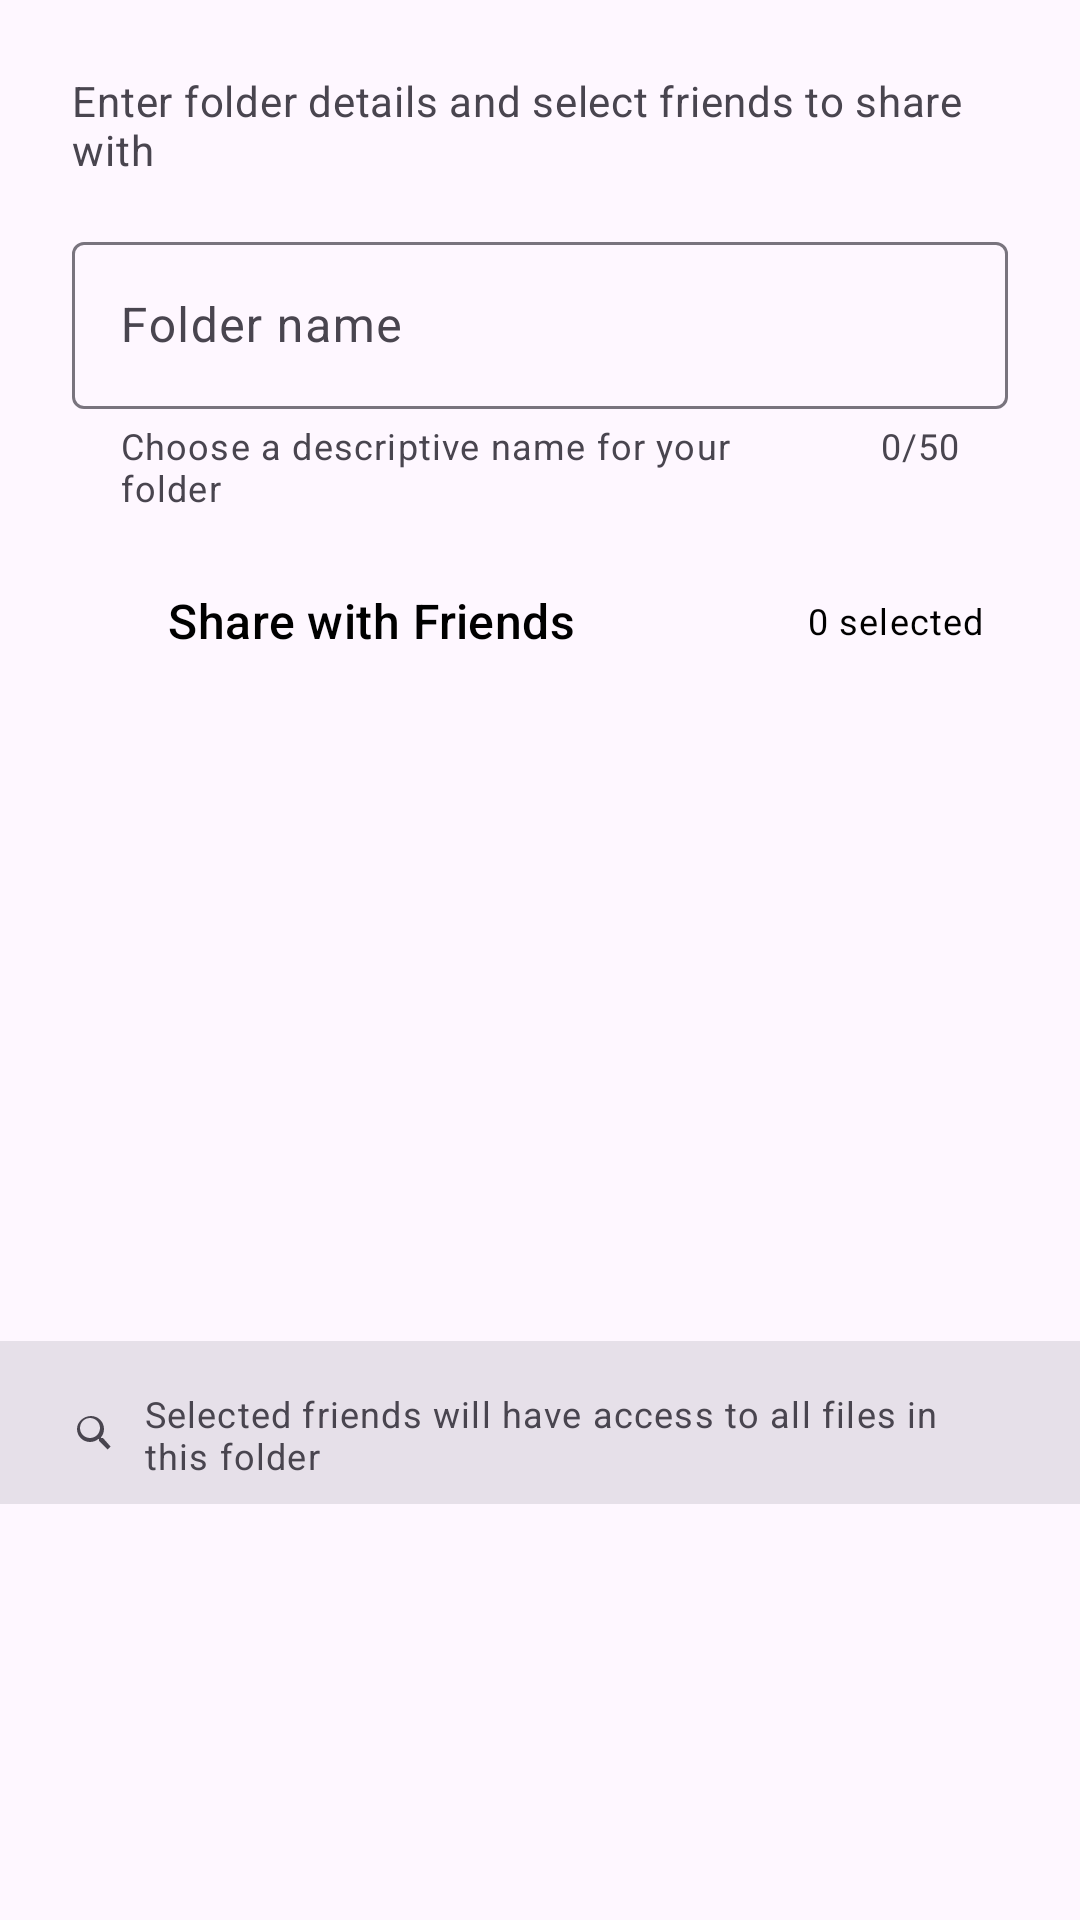

Named icons in this screenshot (1080w x 1920h) and their bounding boxes, [x1, y1, x2, y2]:
search: [77, 1416, 111, 1450]
